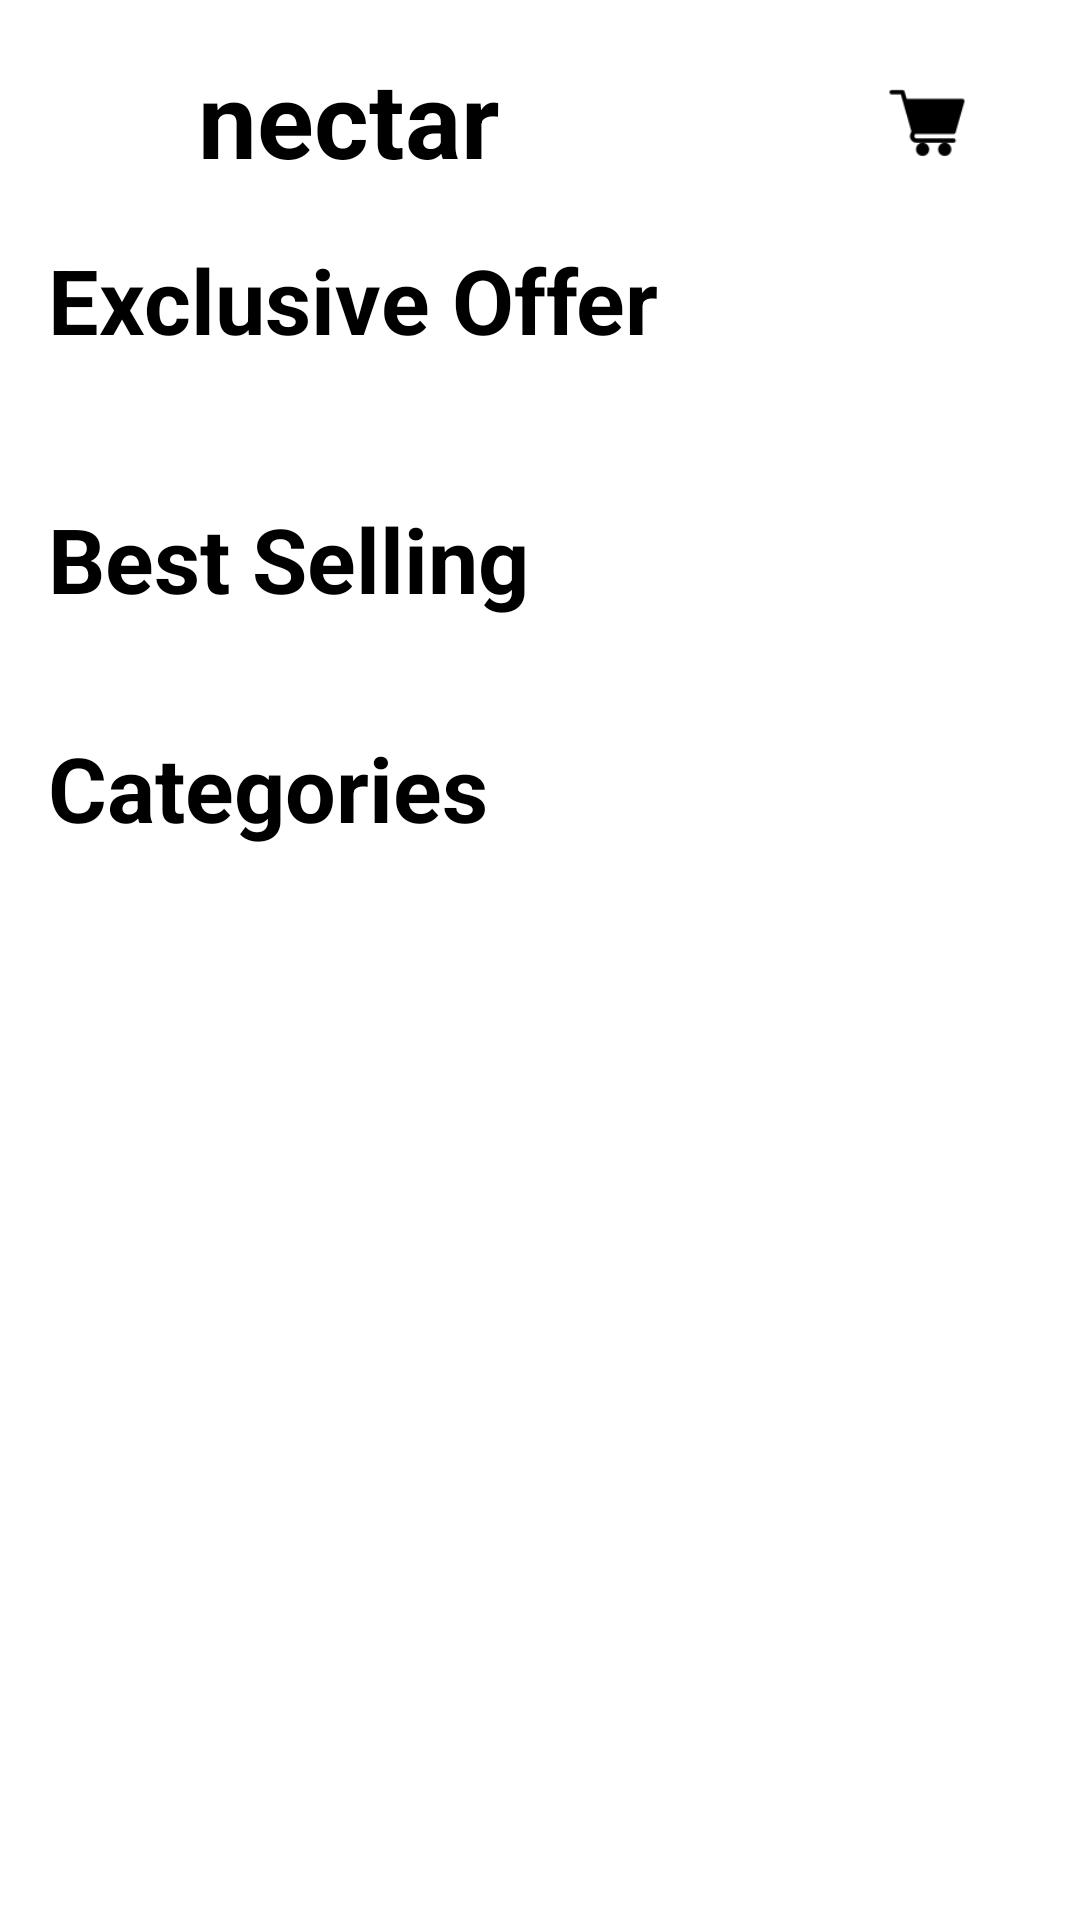

Screen size 1080*1920. Icon name, then its center in pixels as [x,y]:
cart: [927,122]
